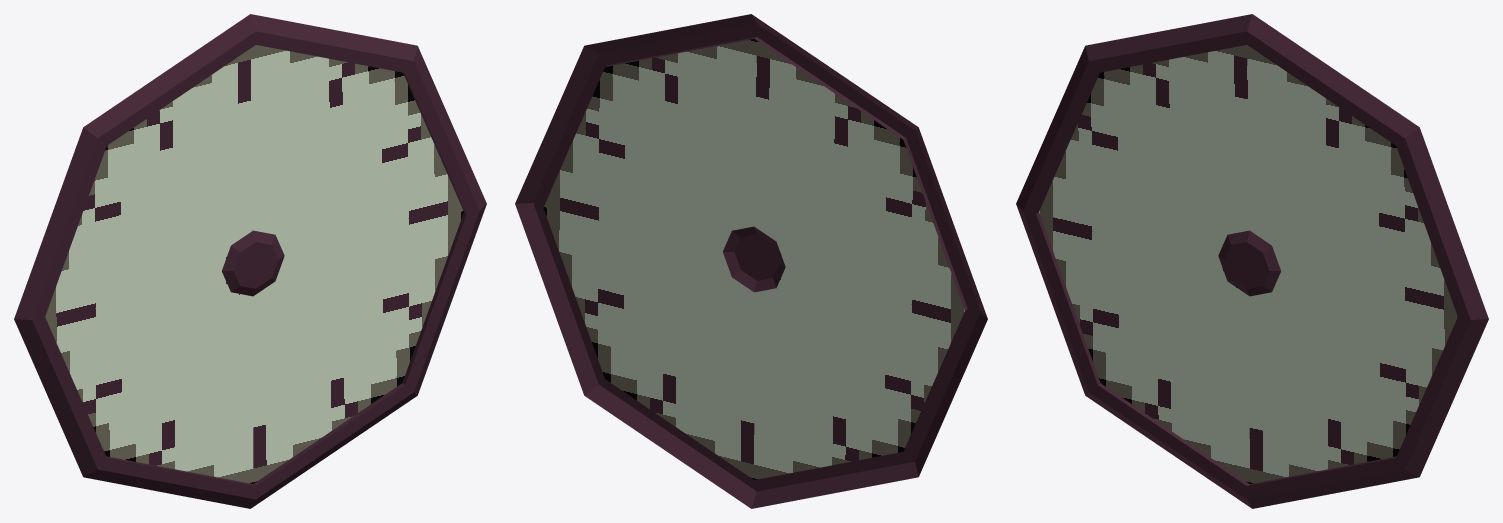
Rendered from clock_face.glb.
3 renders of one model, left to right at view 1: azimuth 30°, elevation 25°; view 2: azimuth 150°, elevation 25°; view 3: azimuth 330°, elevation 25°, orthographic.
Visible parts, largest first — view 1: ClockFace; view 2: ClockFace; view 3: ClockFace.
Part boxes in pixels (x1,y1,x2,y2): ClockFace: (14, 14, 486, 508); ClockFace: (515, 14, 987, 508); ClockFace: (1016, 14, 1488, 508).
Size of the model in its own units: 1 by 1 by 0.02.
Materials: 1 (1 with a texture image).
